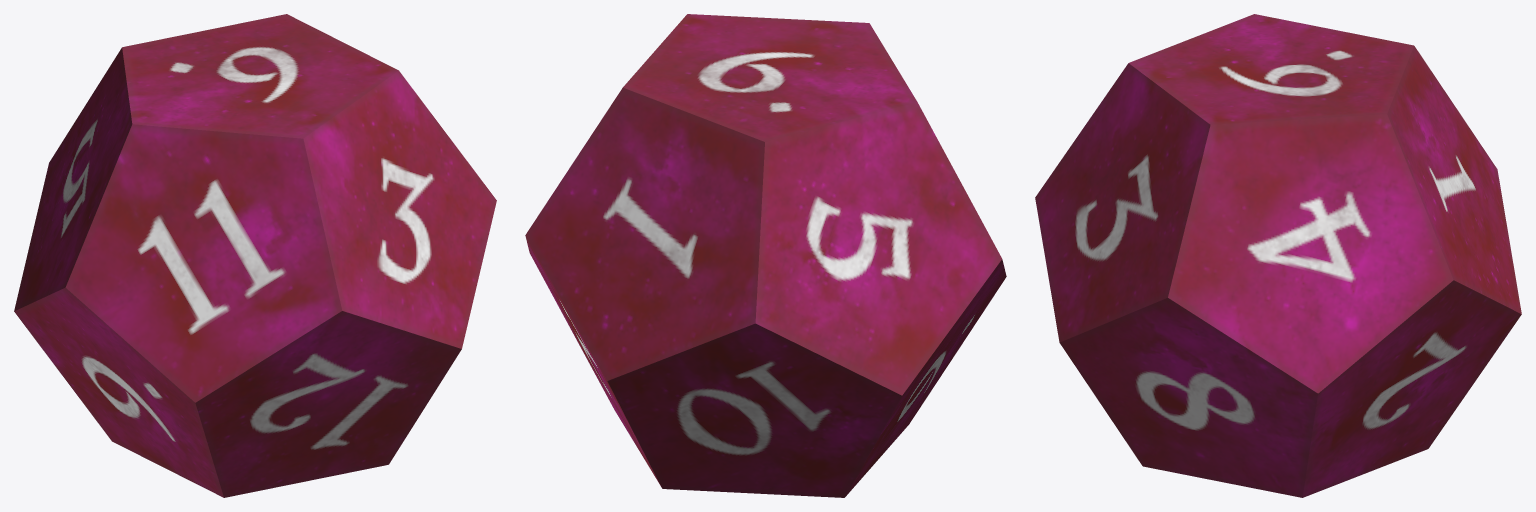
The model's file is UCX_d12.glb.
3 renders of one model, left to right at view 1: azimuth 30°, elevation 25°; view 2: azimuth 150°, elevation 25°; view 3: azimuth 270°, elevation 25°, orthographic. The views are drawn at different scales.
Visible parts, largest first — view 1: UCX_d12; view 2: UCX_d12; view 3: UCX_d12.
Boxes of the visible parts, box(x1,y1,x2,y2) form: UCX_d12: box(14, 14, 496, 497); UCX_d12: box(525, 14, 1006, 497); UCX_d12: box(1035, 14, 1521, 497).
Bounding box in the file's own units: 0.9657 × 0.807 × 0.9604.
1 material, 1 textured.
